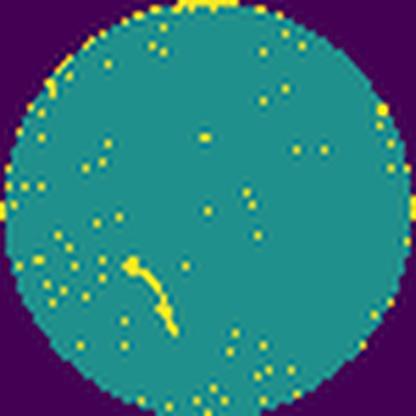Scratch: (117, 250, 187, 346)
